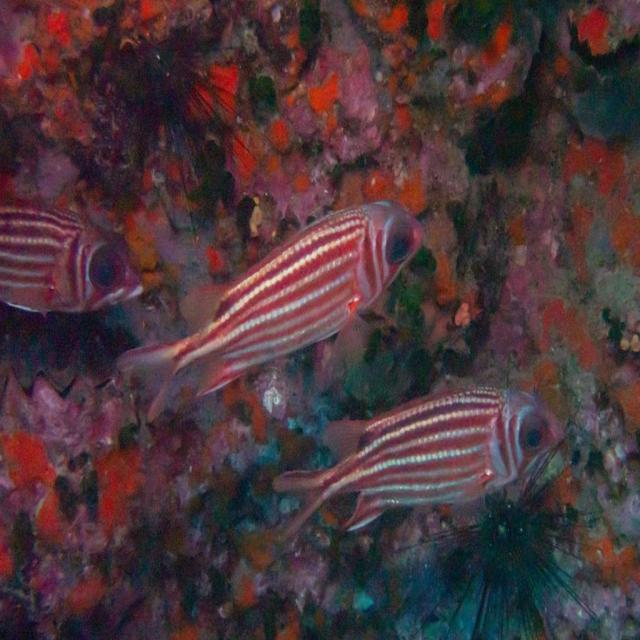Asker Baligi: (87, 180, 444, 430), (260, 360, 590, 578)
